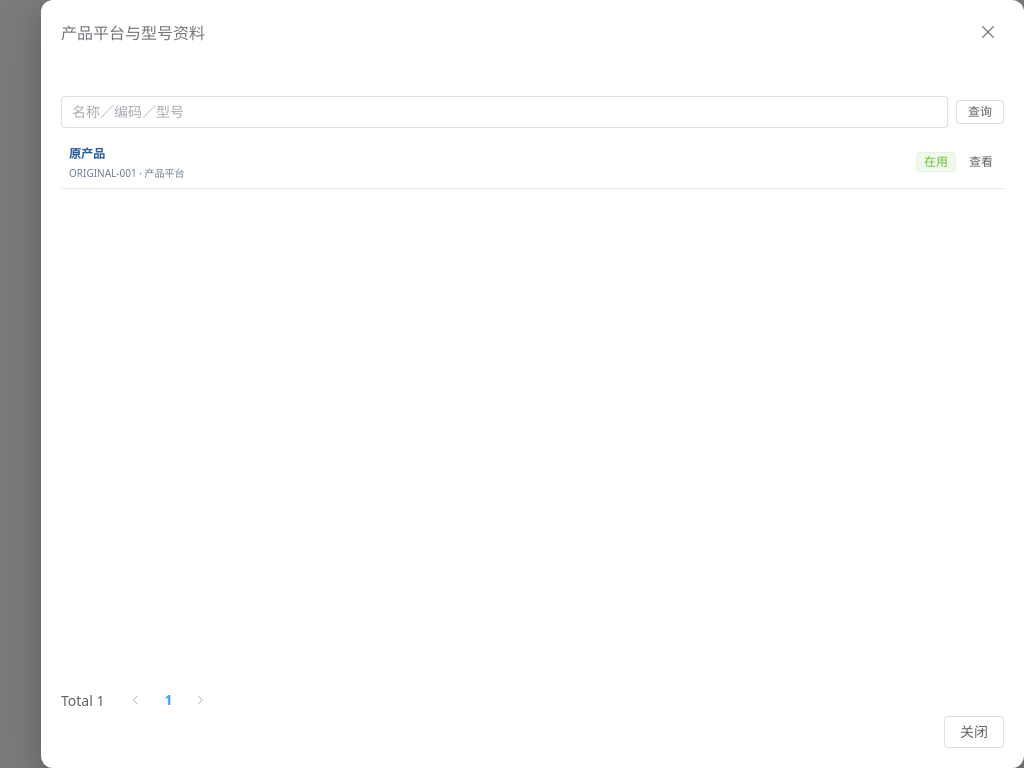
Test: existing product master maintenance › hides mutations for a read-only account and clears pending objects on identity change
The width and height of the screenshot is (1024, 768).
Click the button "查看": click(981, 162) x1=966 y1=153 x2=996 y2=171
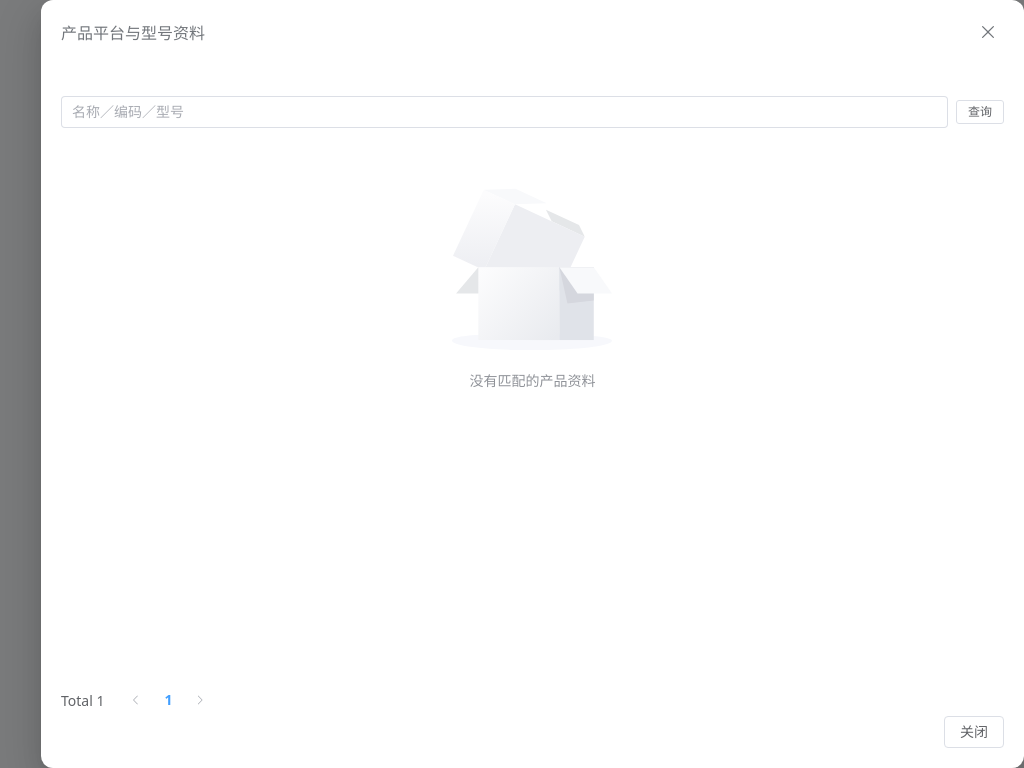
Result: the text "ORIGINAL-001" is gone
